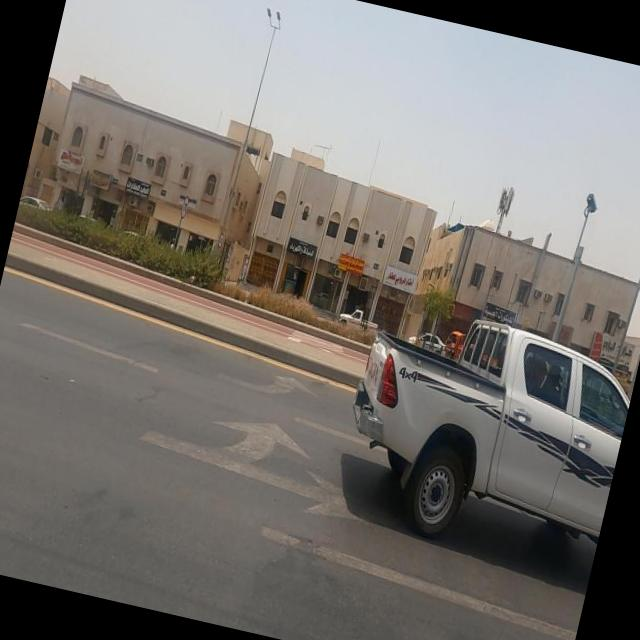debris: (508, 270, 607, 380), (66, 134, 137, 225)
